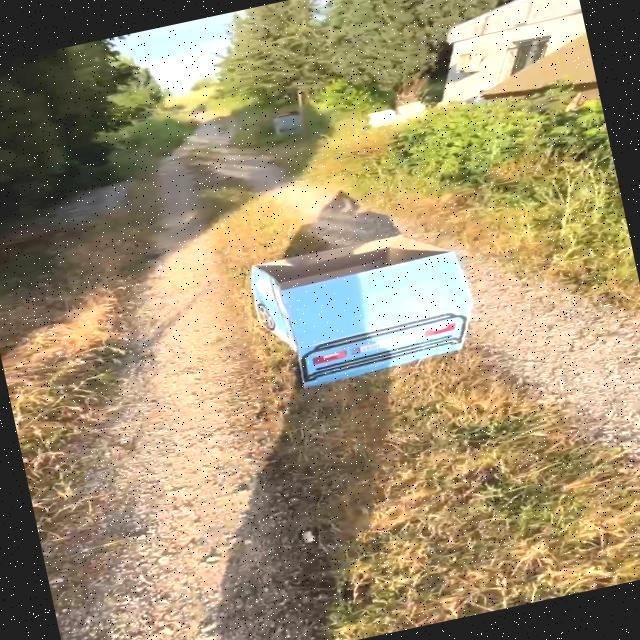blue_car: (198, 196, 510, 435)
